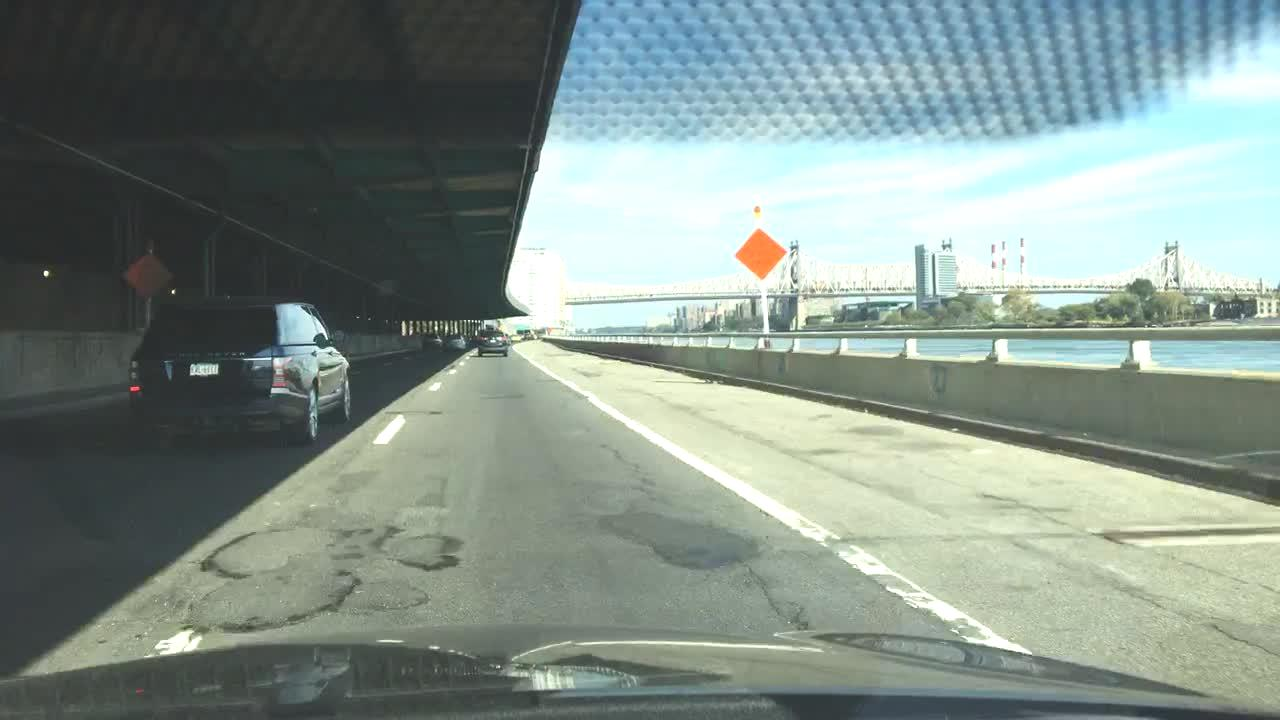range rover: (160, 346, 265, 362)
